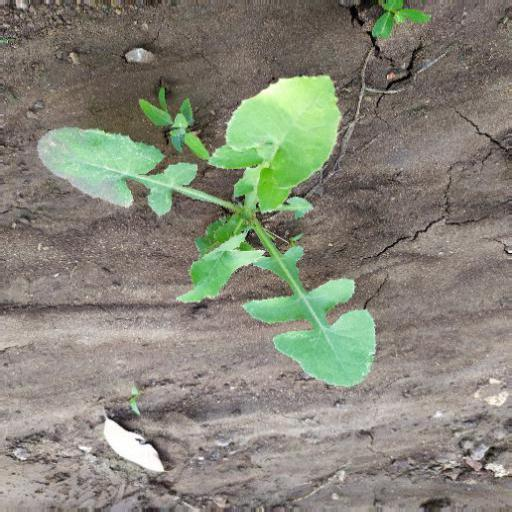weed: (36, 75, 380, 409)
